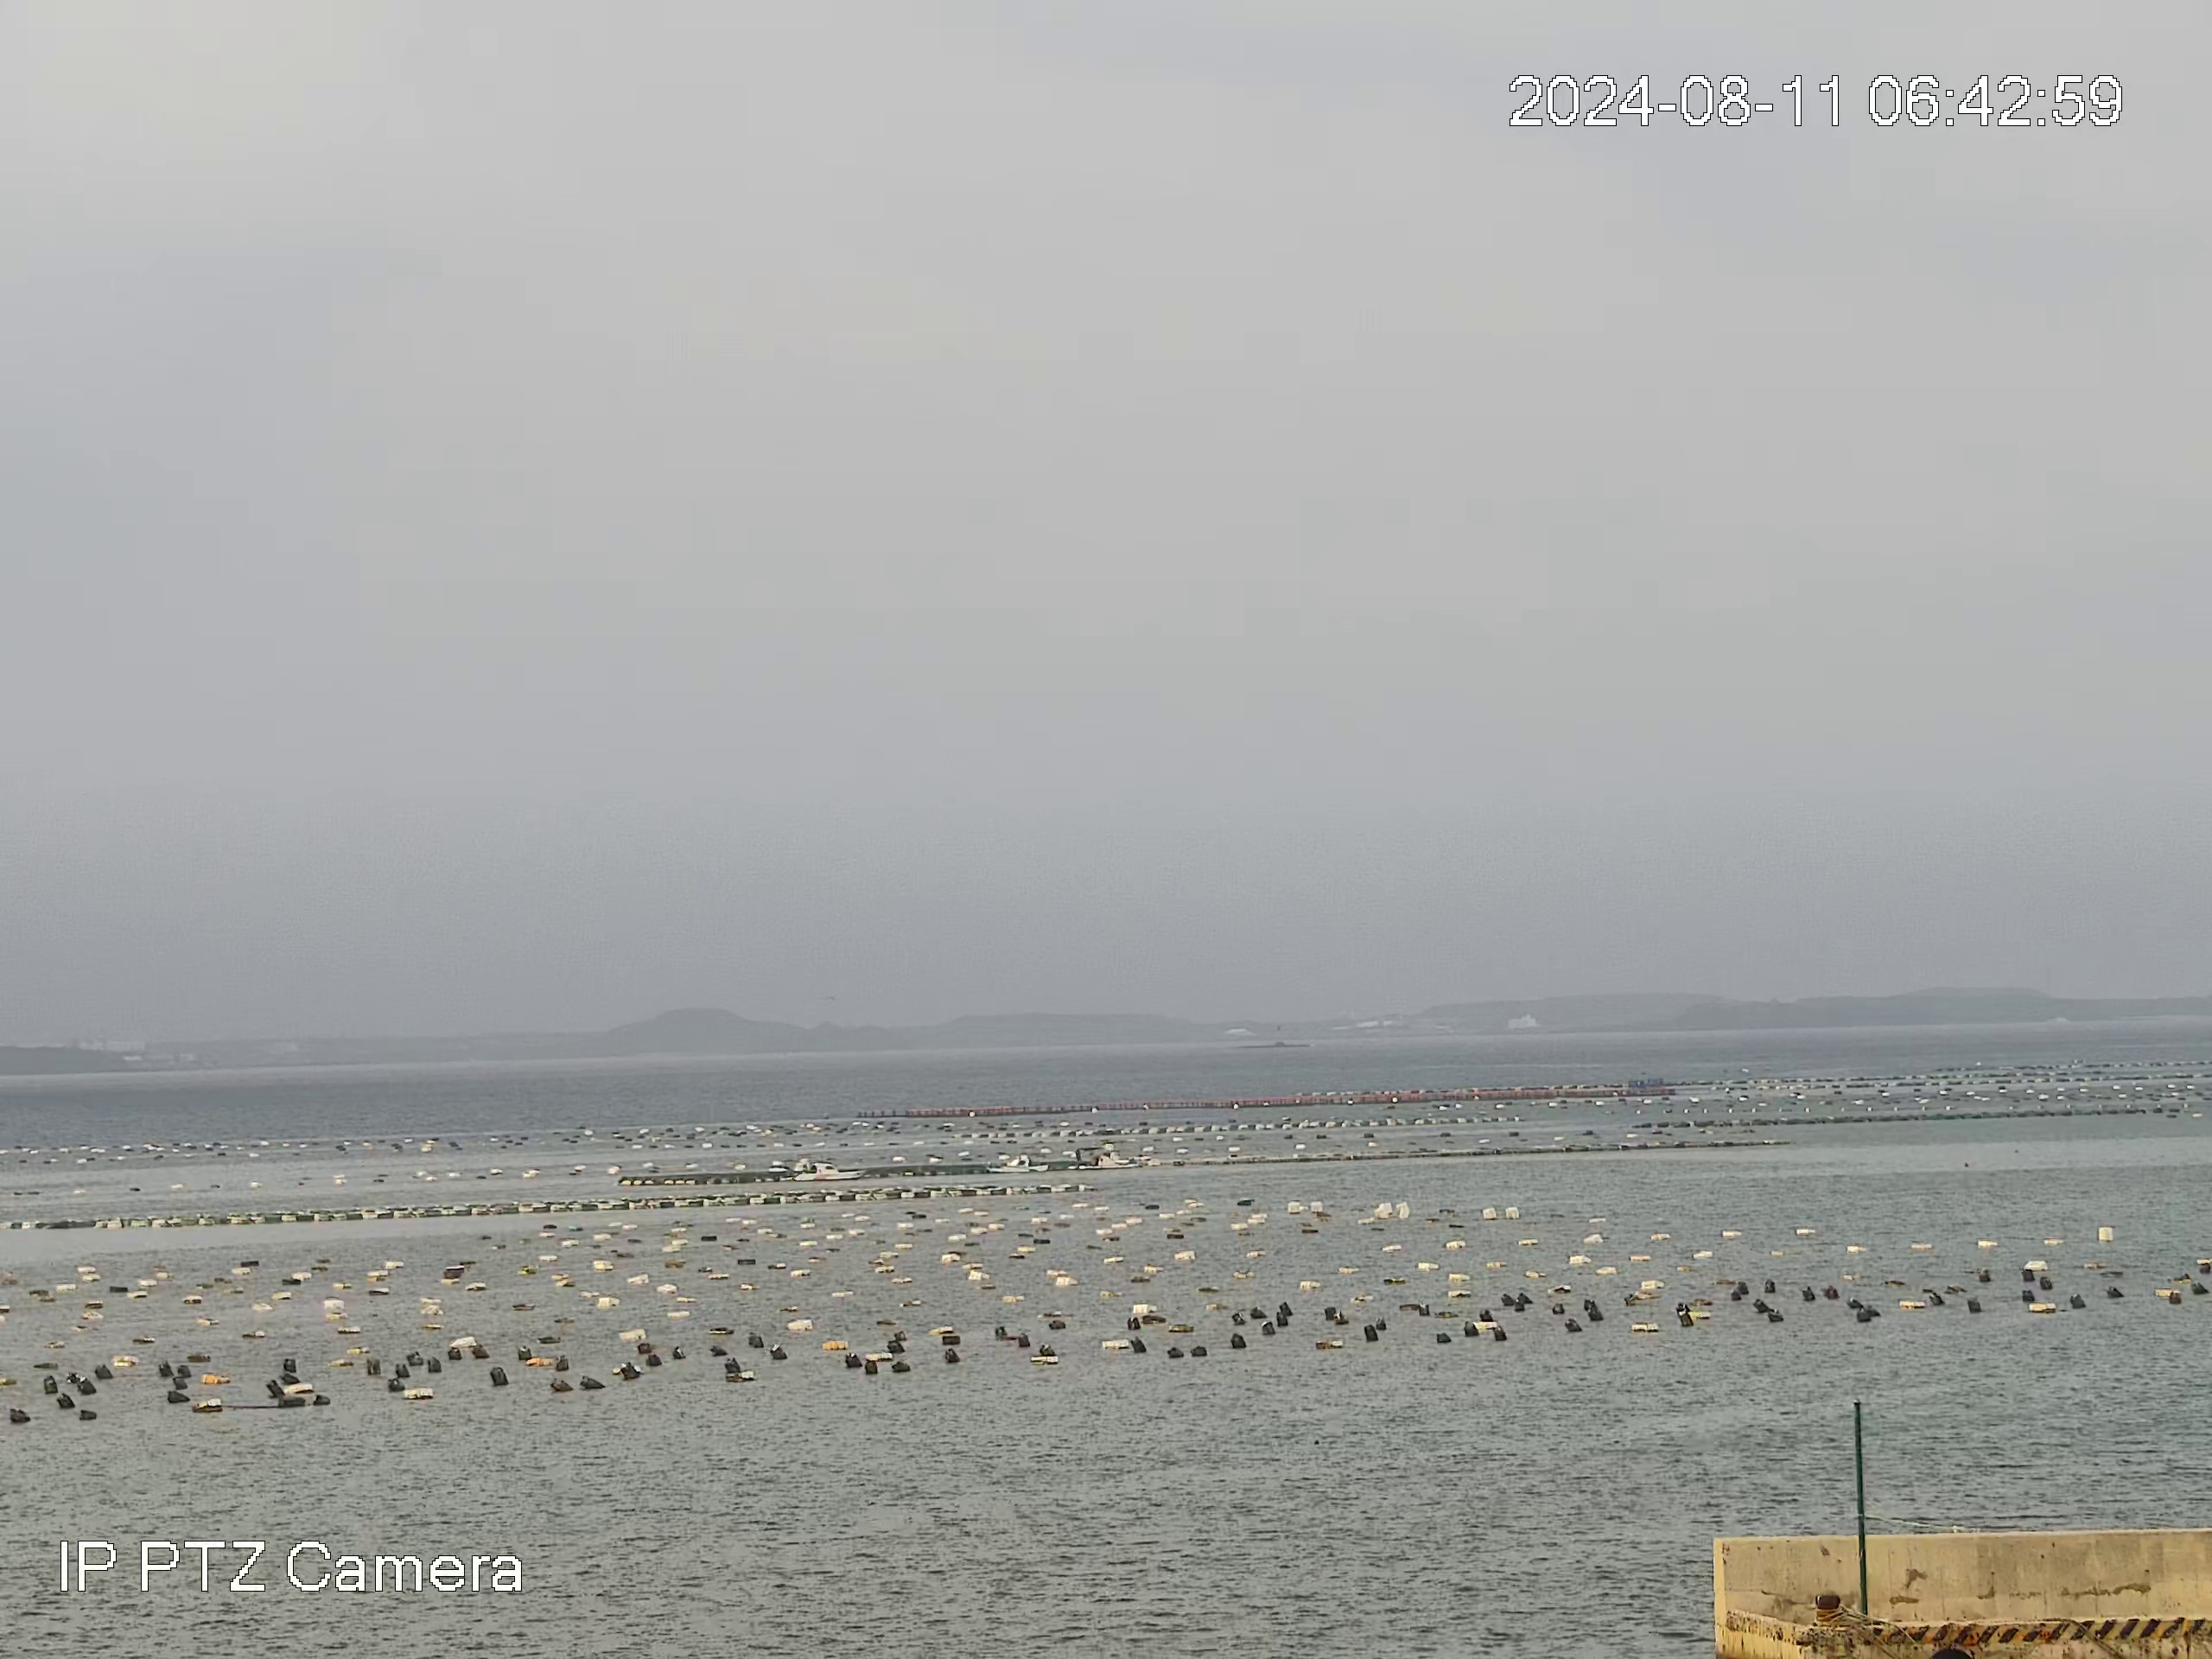boat: (768, 1161, 864, 1182), (984, 1150, 1050, 1175), (1068, 1152, 1118, 1169)
